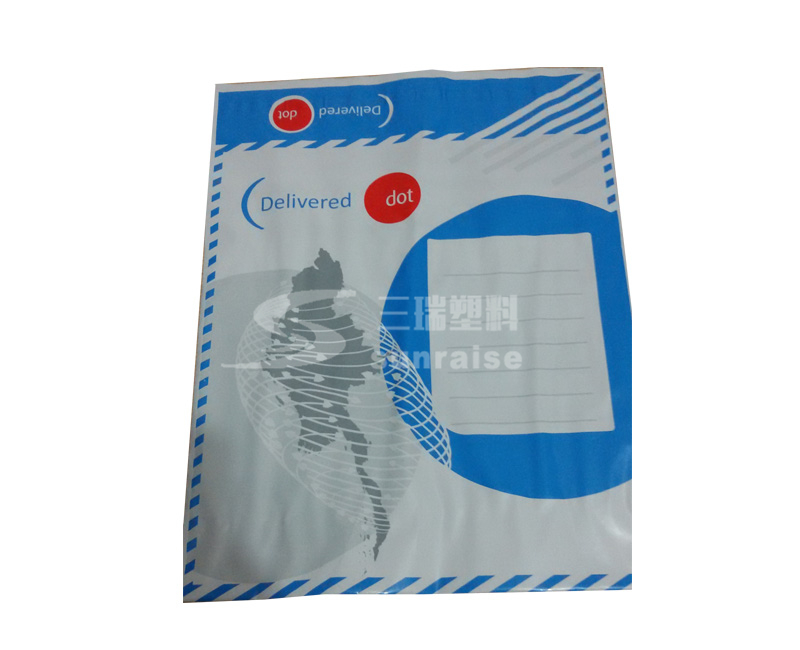塑料袋: (183, 68, 631, 603)
